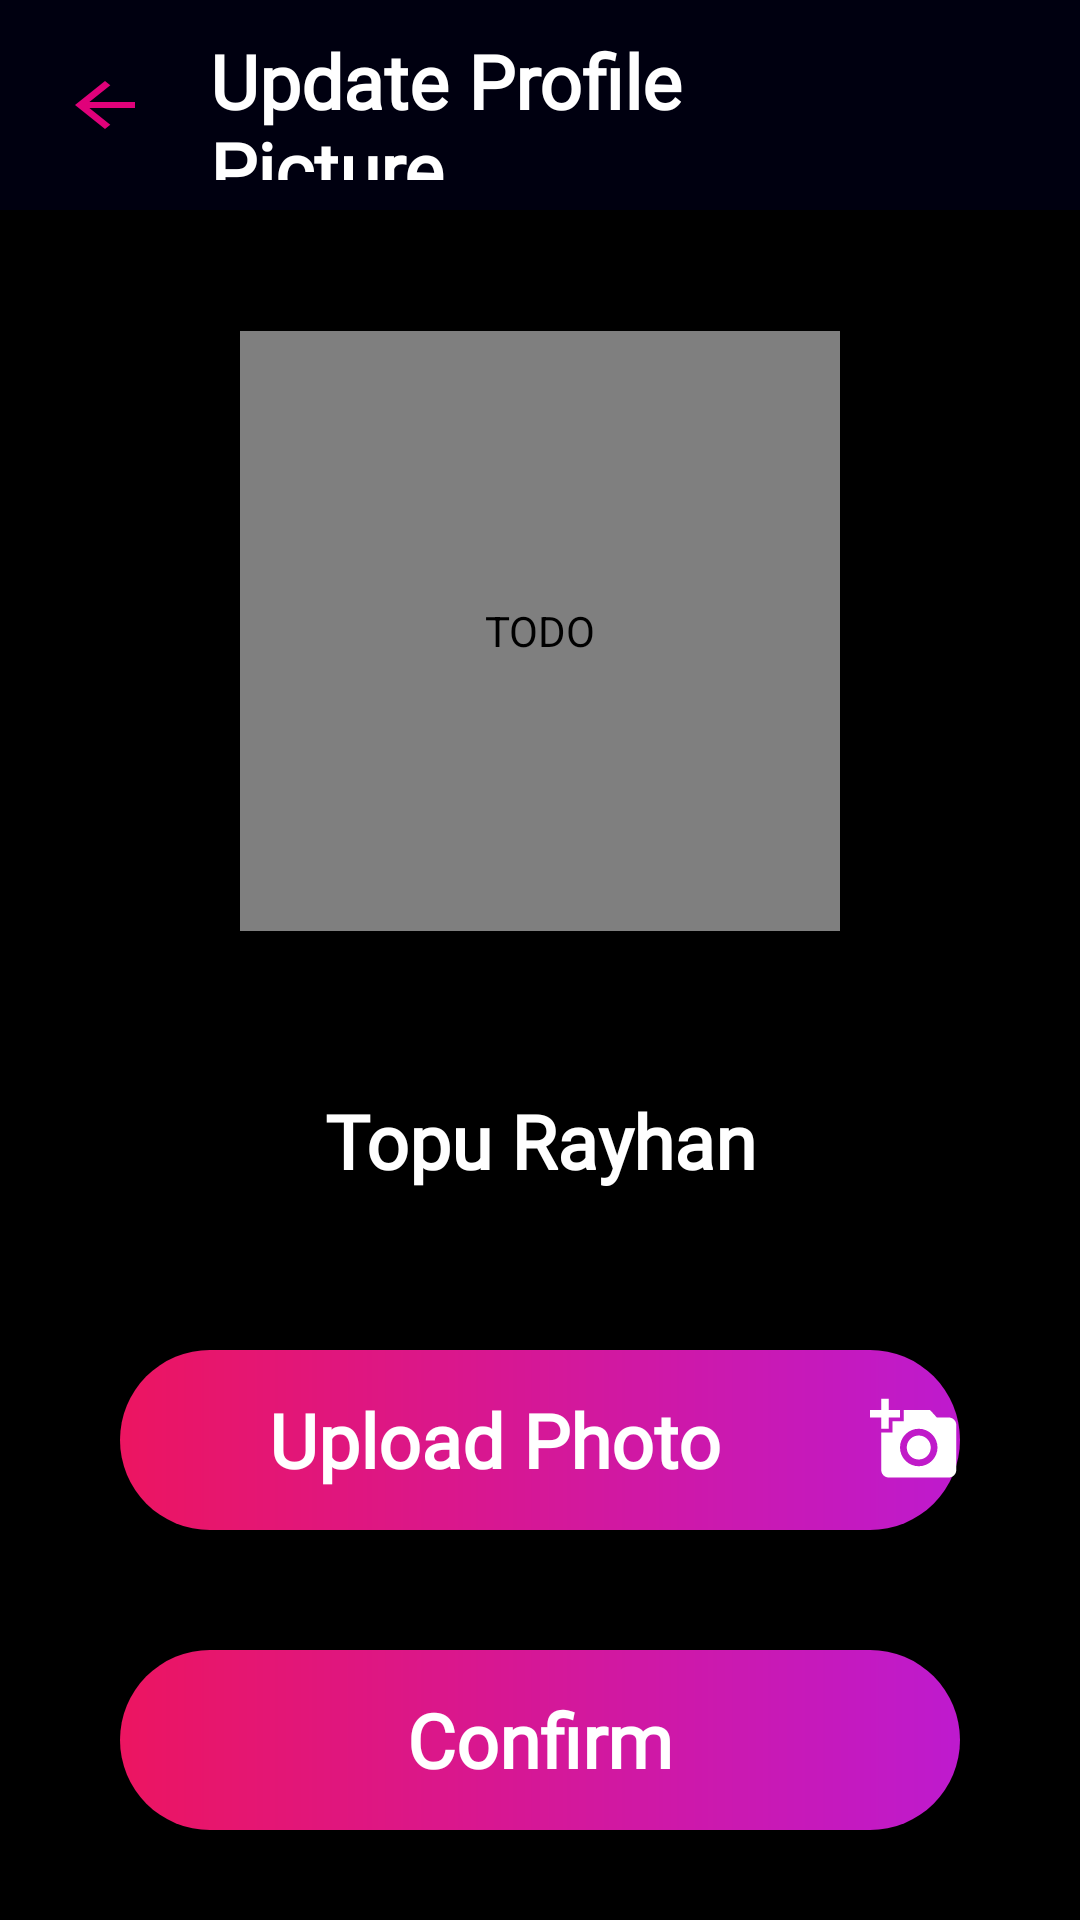

Point at icon controls on the screen. Image size 1080*1920, points as point (x, y).
arrow back: point (105, 105)
